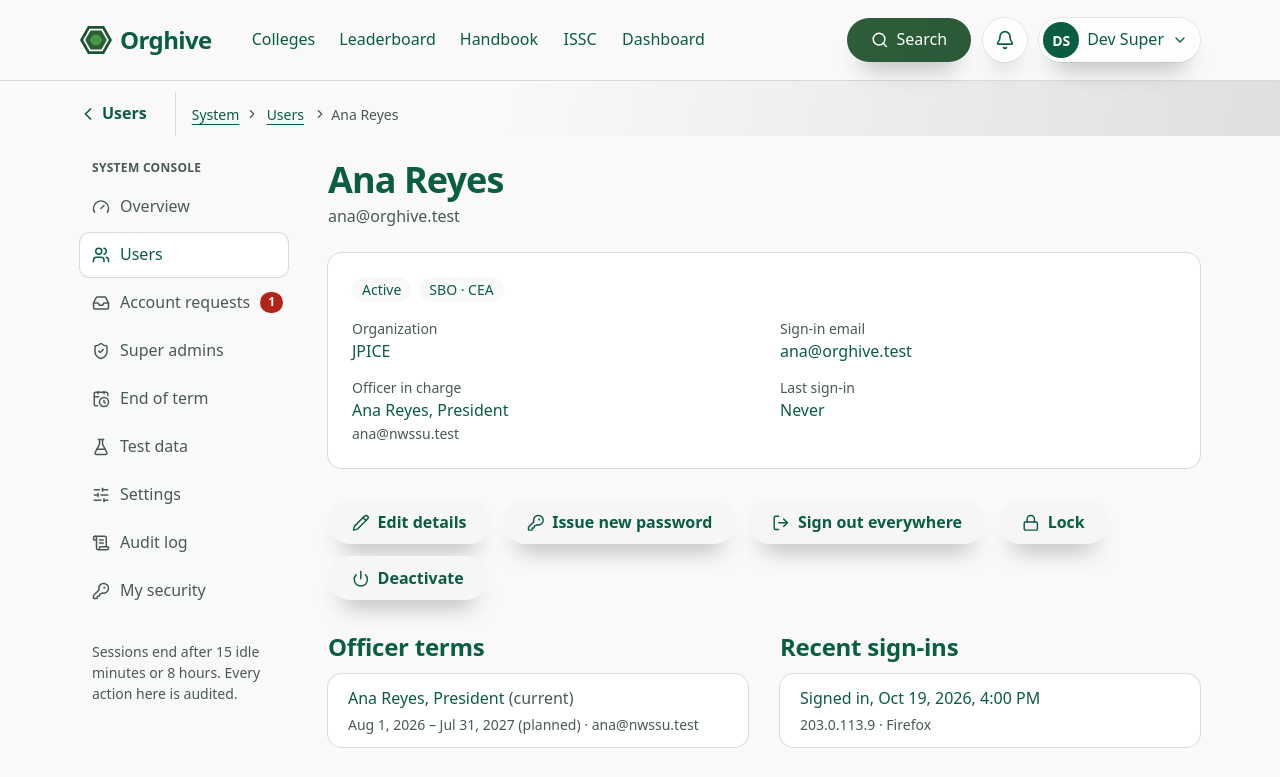
/system › issues a new password after a step-up: sent to the ISSC’s Reveal, or shown once
This screenshot has width=1280, height=777.
Click the button "Issue new password" at (619, 522), box [503,500,736,544]
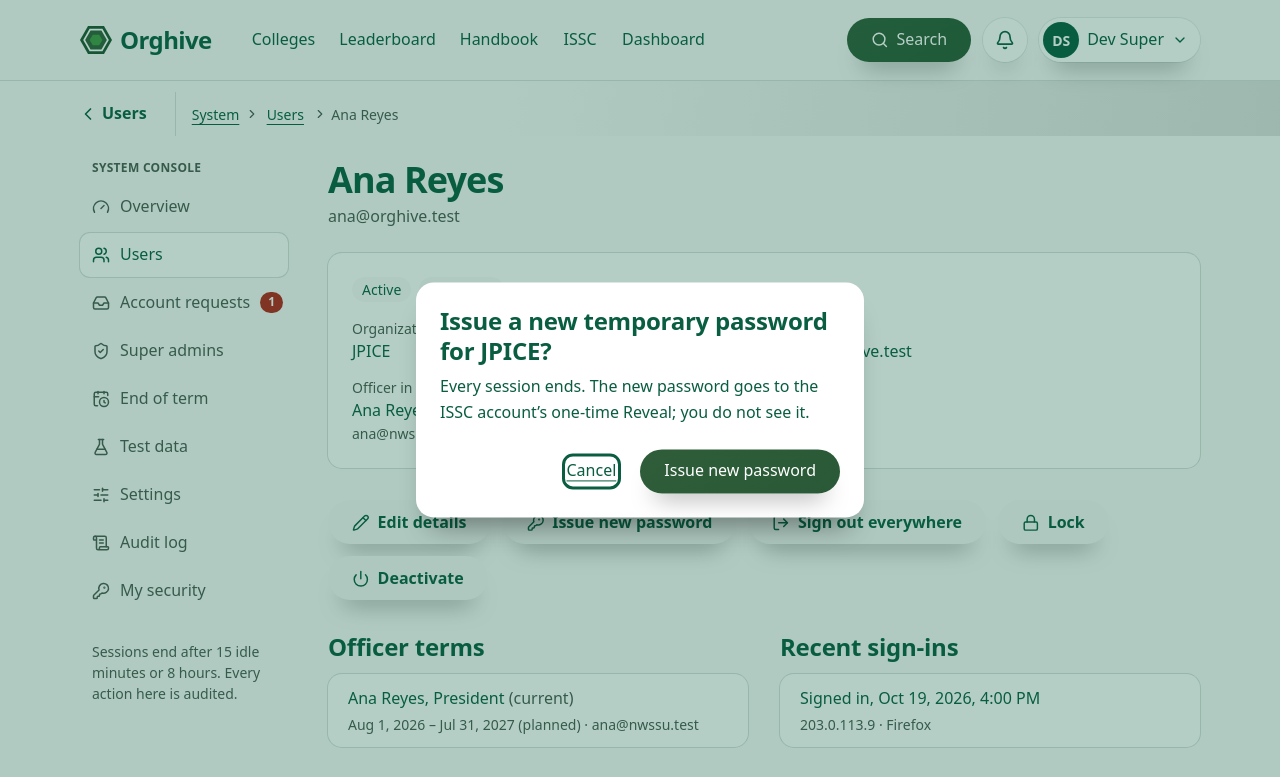
Click the button "Issue new password" at (740, 472), box [640,450,840,494]
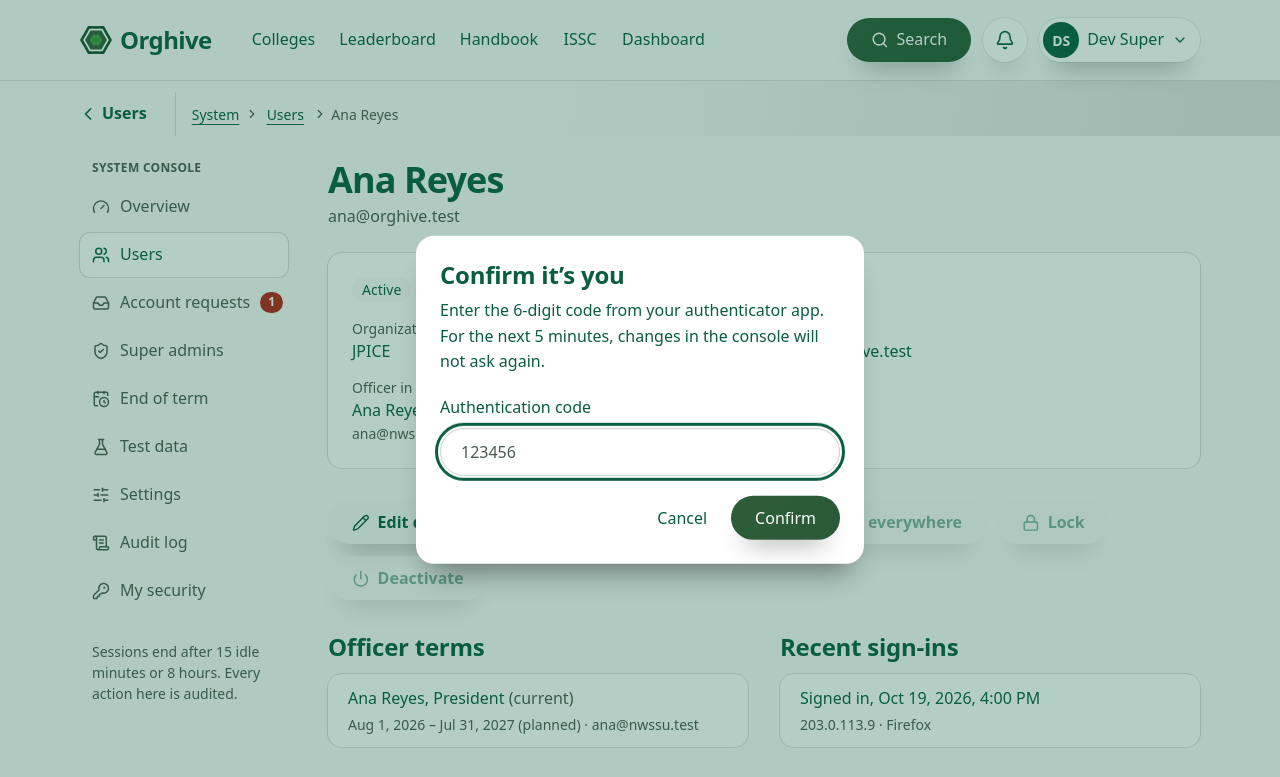
Type "123 456" into the field labelled "Authentication code" at (640, 452), box [440,428,840,476]
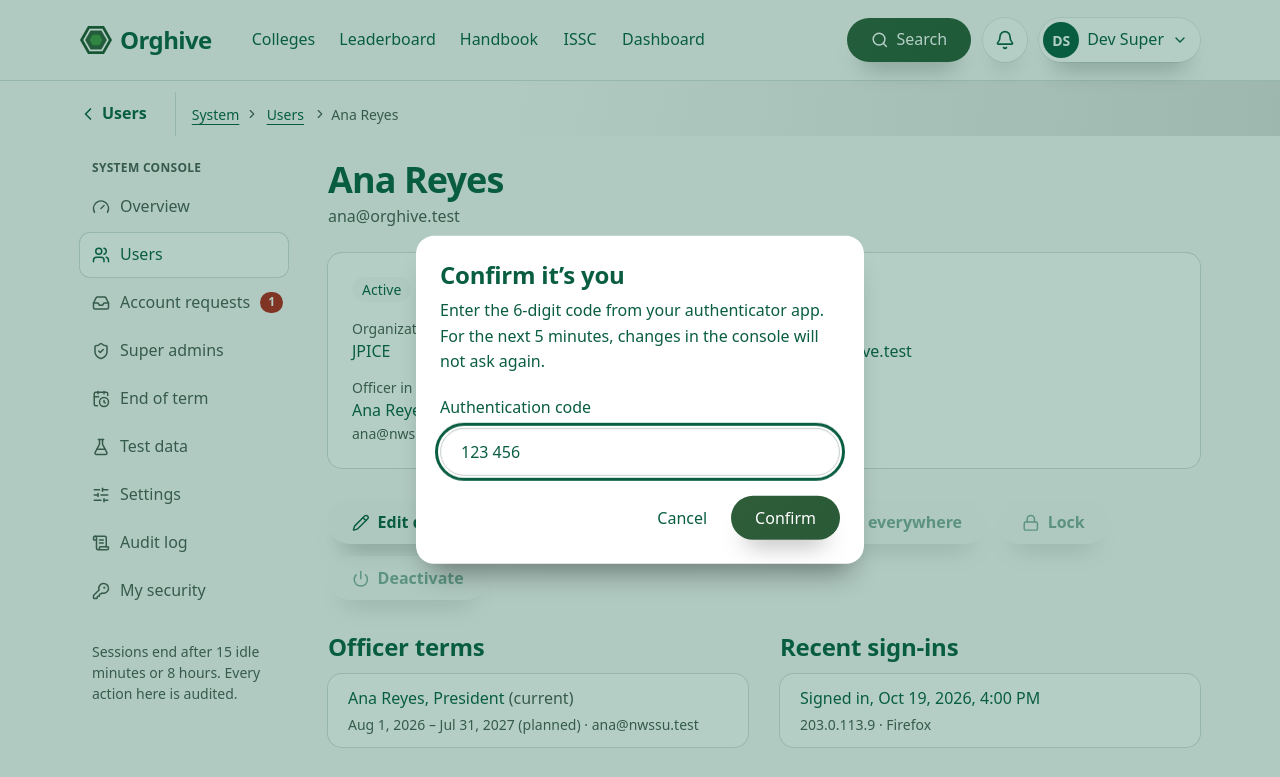
Click the button "Confirm" at (786, 518), box [731,496,840,540]
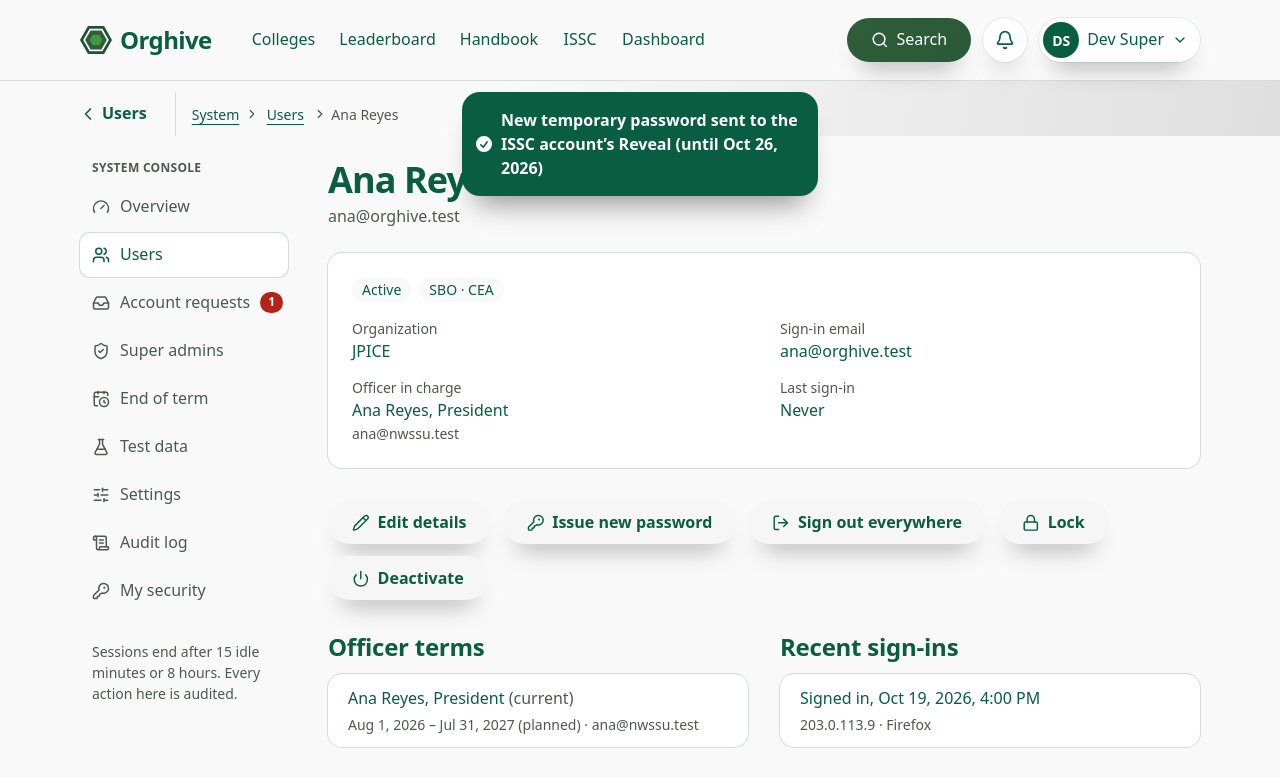
Expected: the text "sent to the ISSC account’s Reveal" is shown, [501,109,798,179]
Click the button "Issue new password" at (619, 522), box [503,500,736,544]
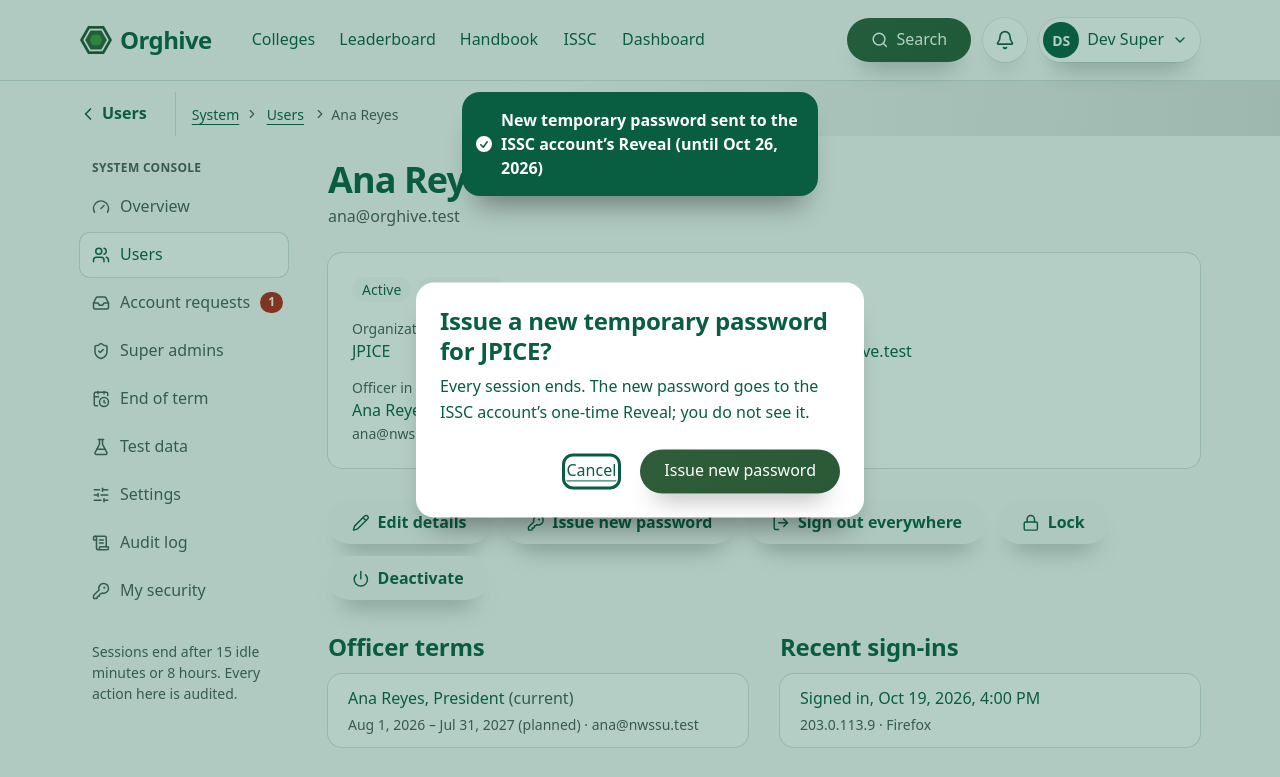
Click the button "Issue new password" at (740, 472), box [640,450,840,494]
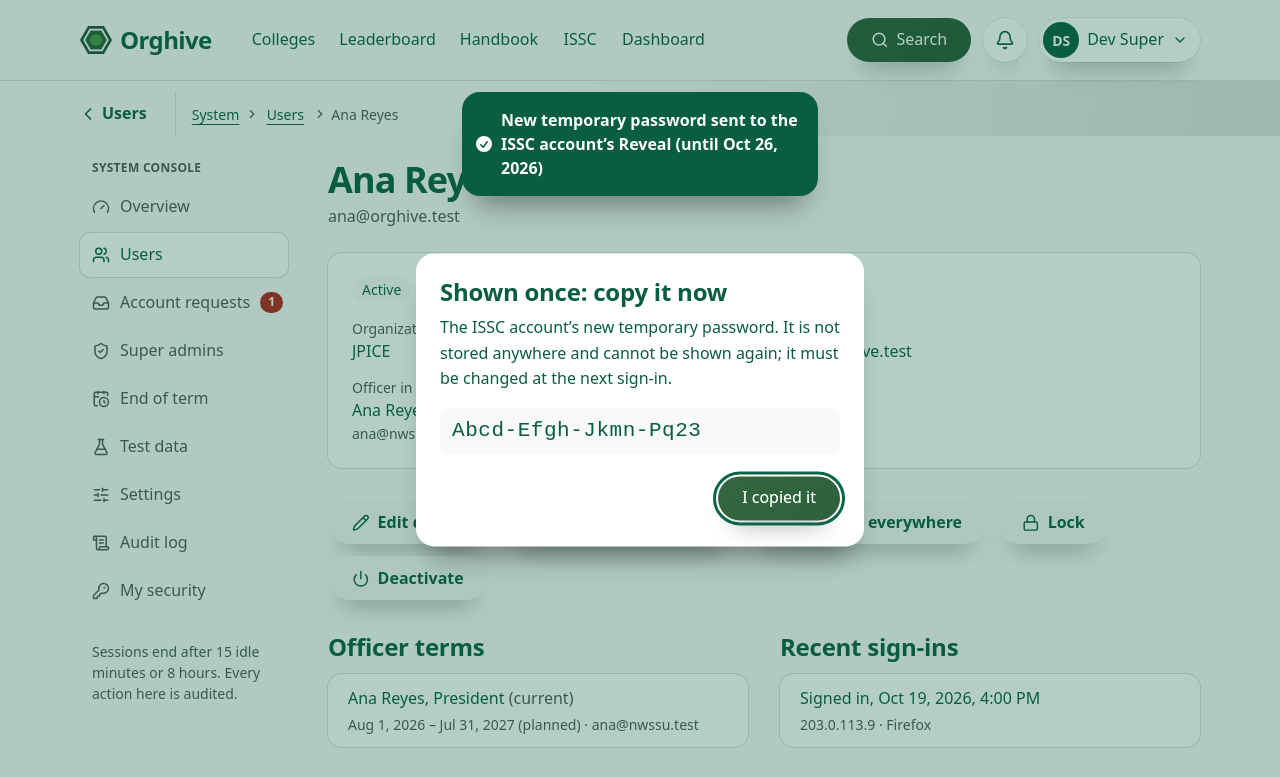
Expected: the text "Abcd-Efgh-Jkmn-Pq23" is shown, [440,408,840,455]
